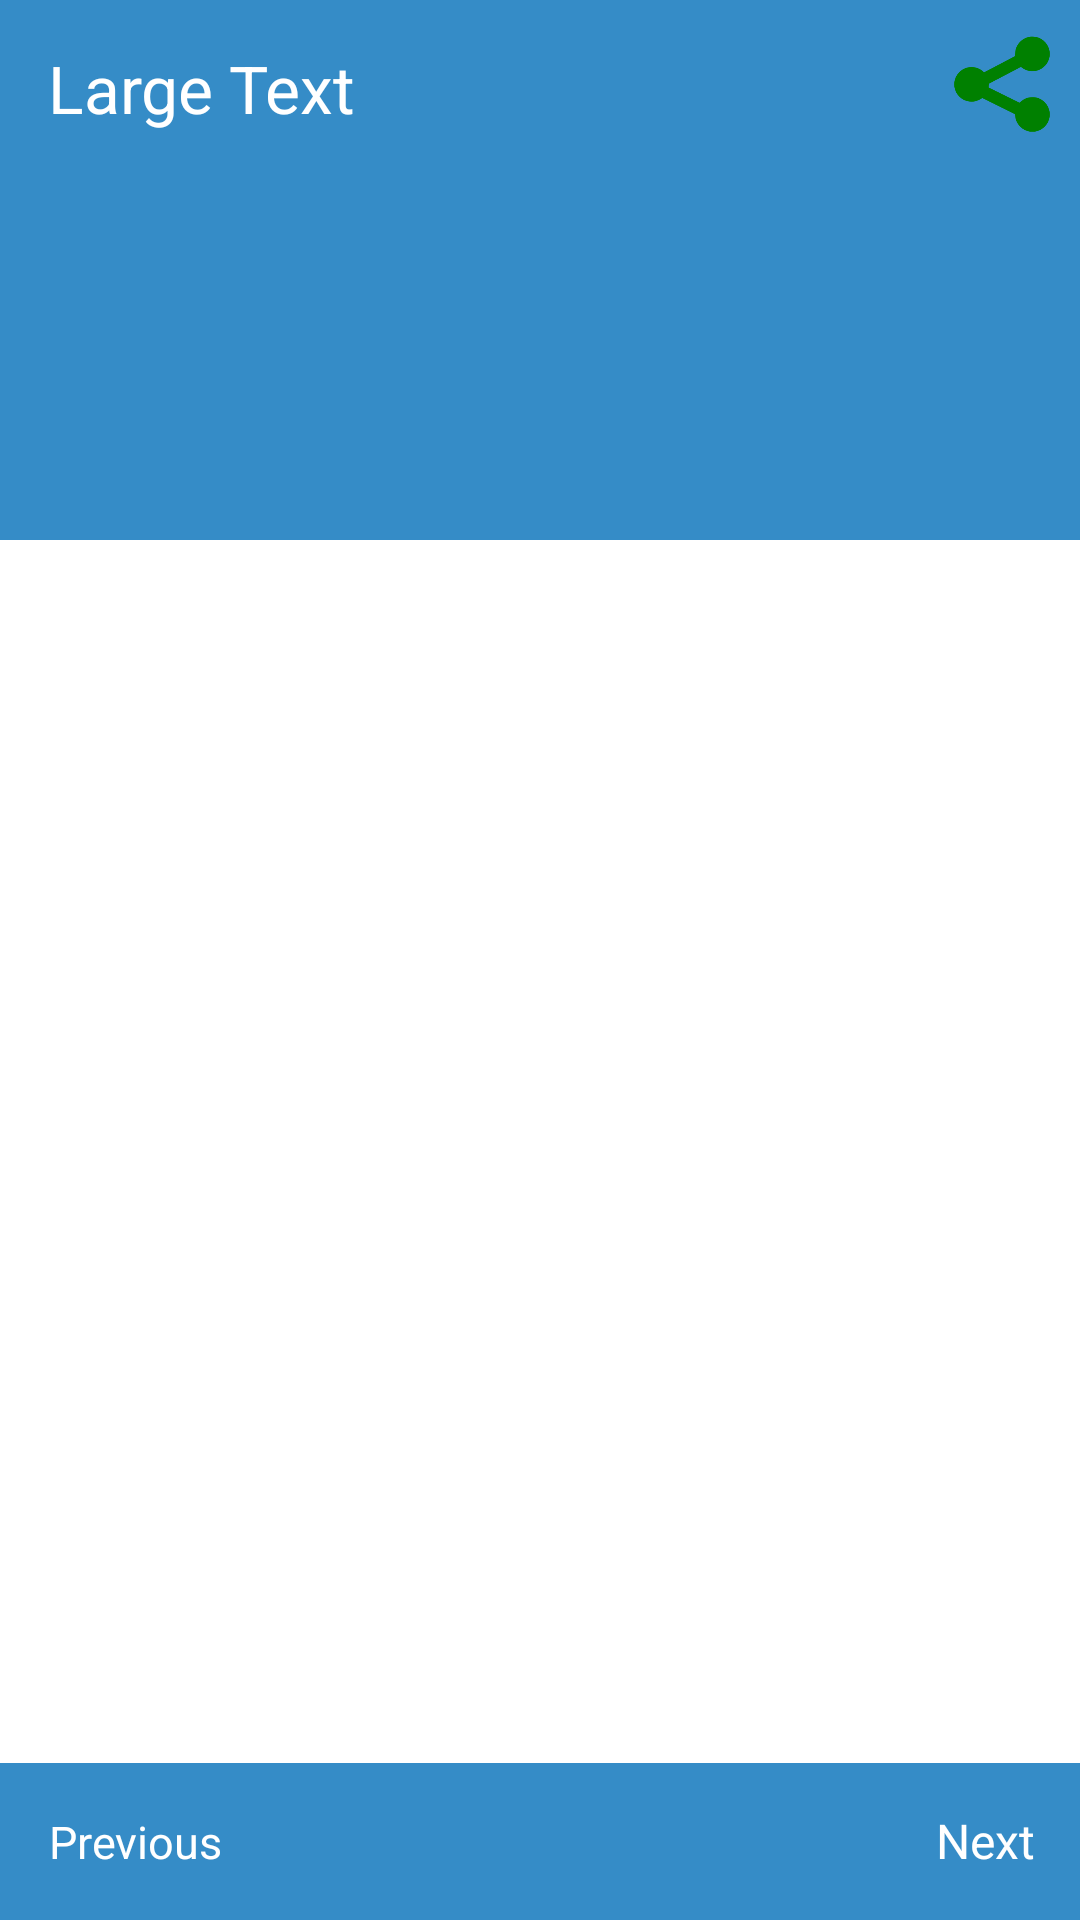

Icon bounding boxes for this 1080w x 1920h phone screenshot, format box(x1, y1, x2, y2):
share: box(954, 36, 1050, 132)
